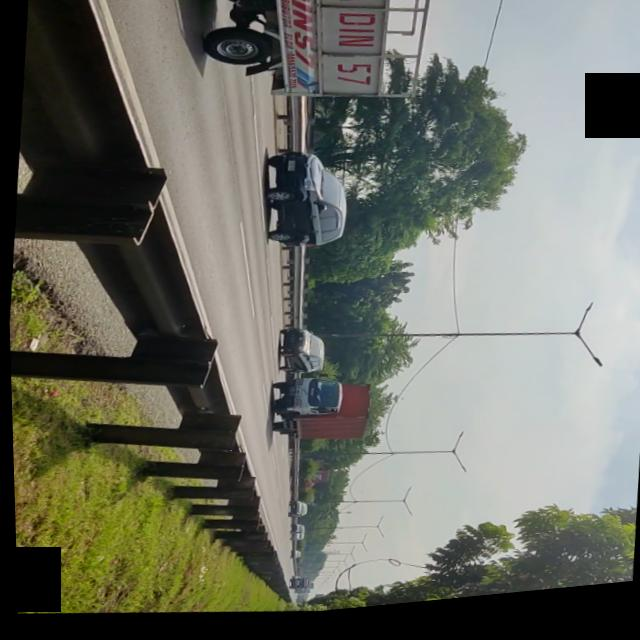Golongan I: (251, 145, 352, 264), (263, 326, 332, 384)
Golongan II: (261, 373, 370, 455)
